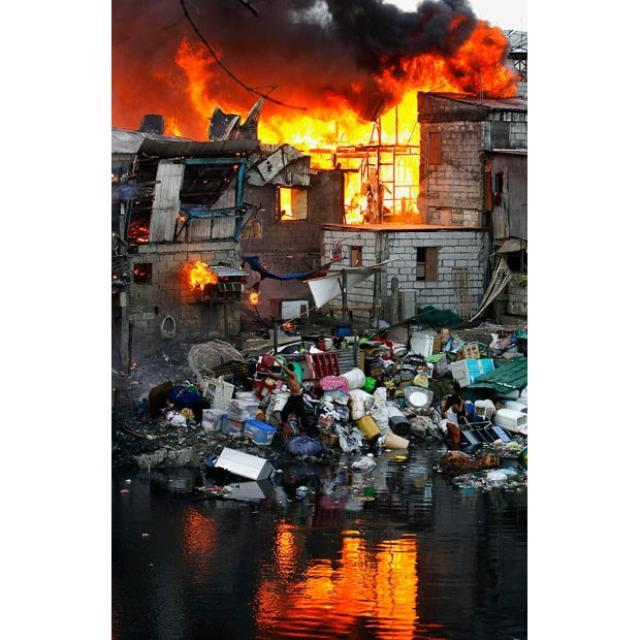Fire: (273, 109, 423, 224), (392, 32, 541, 127), (130, 56, 268, 155), (187, 261, 223, 286)
Smoke: (110, 0, 536, 127)
